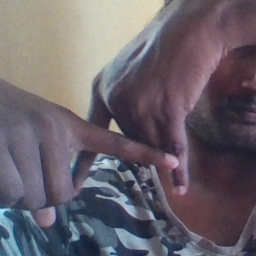H: (52, 78, 201, 213)
